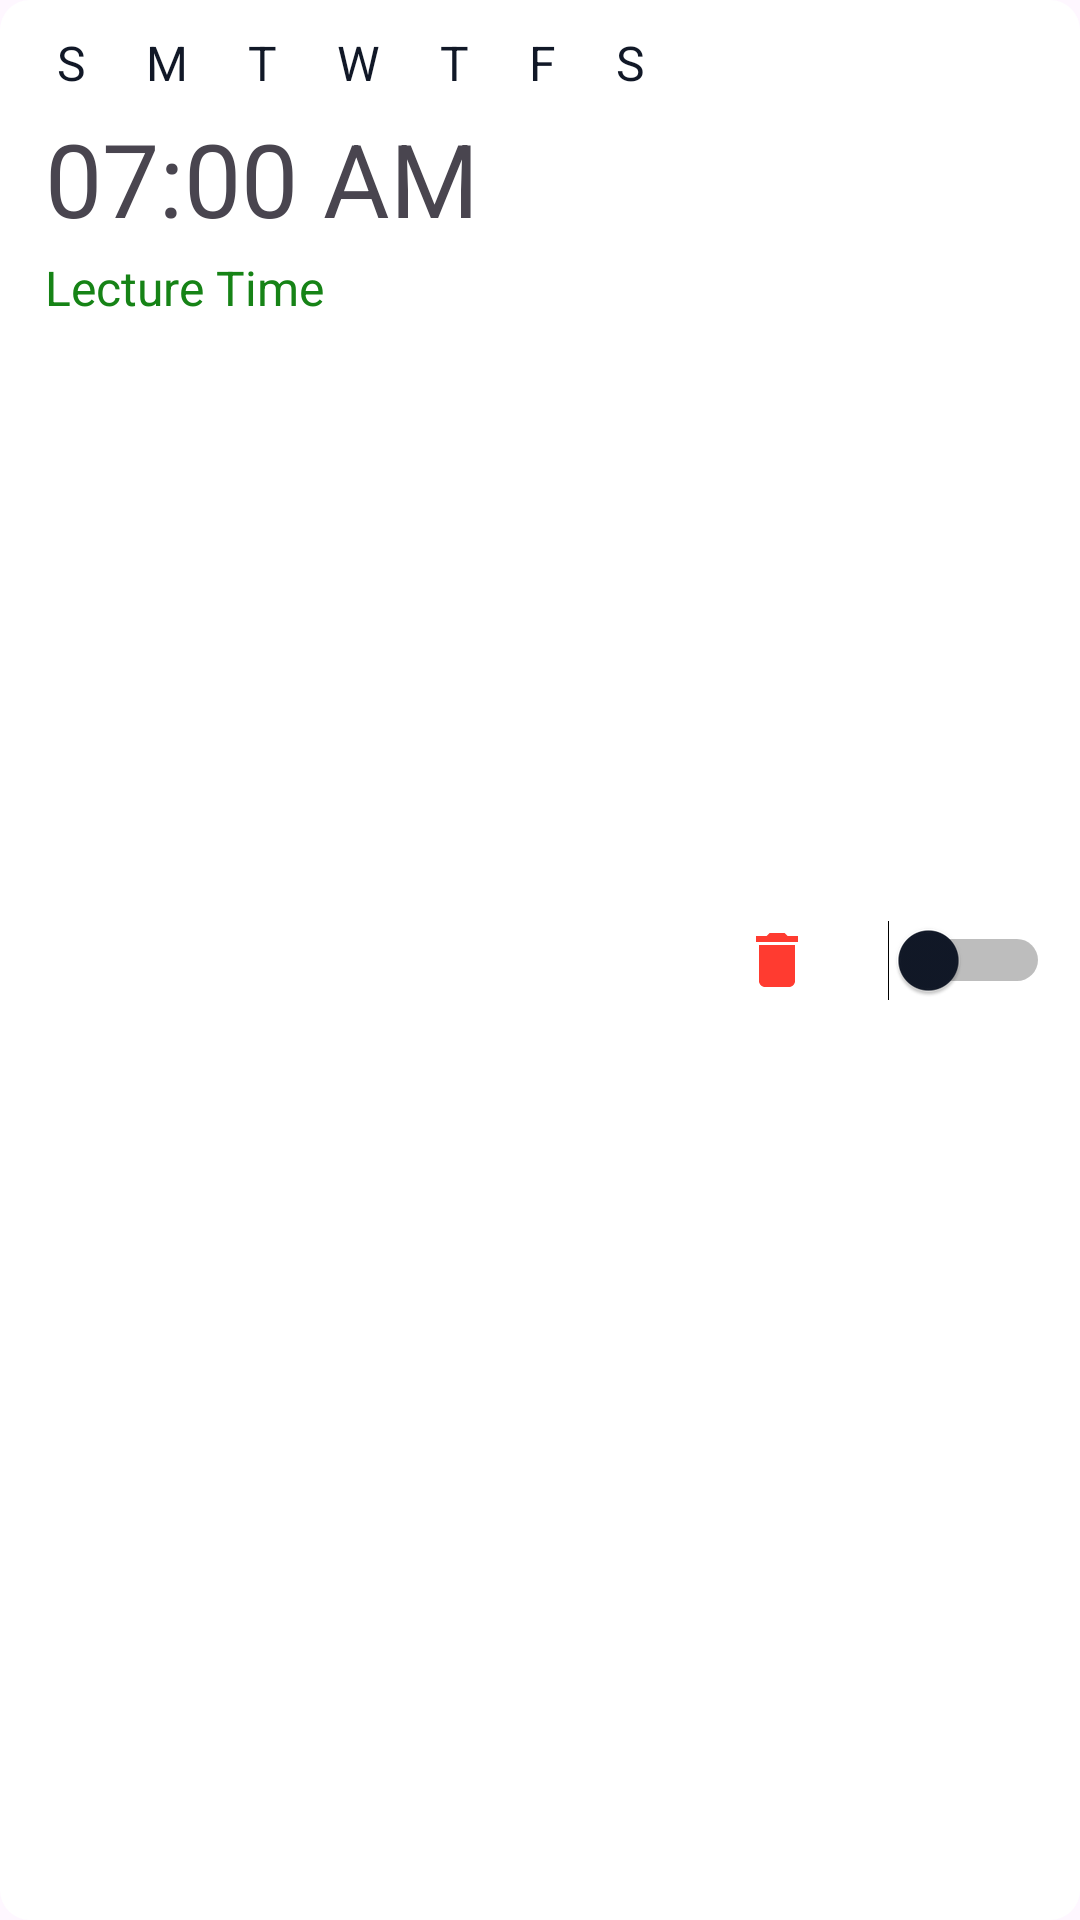

Where icons sit on this 1080×1920 app screen, as rect(x1, y1, x2, y2):
delete: rect(756, 933, 798, 987)
